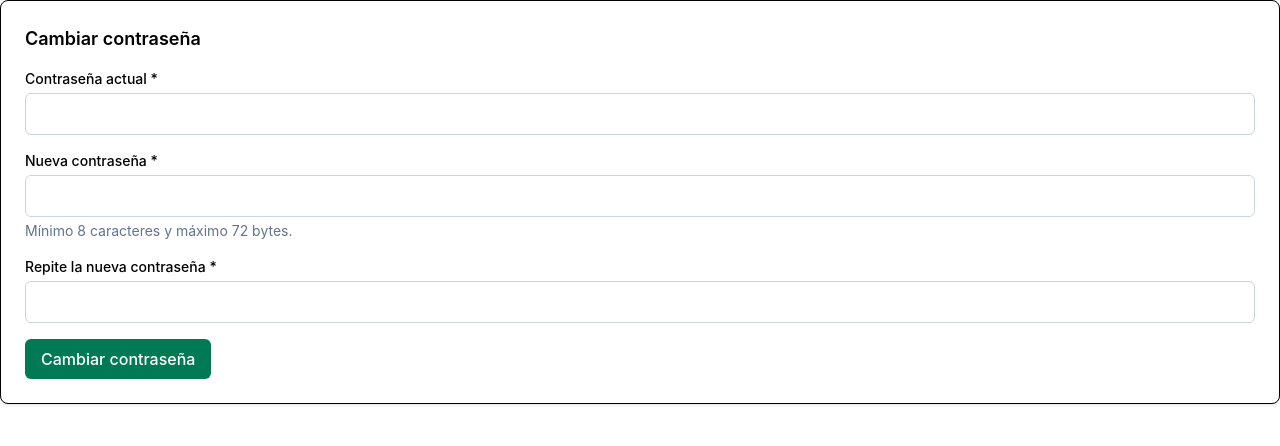
it: ChangePasswordForm › INVALID_PASSWORD se muestra bajo el campo de contraseña actual
Step 1. Type "equivocada1" into the password field labelled "Contraseña actual *" → (640, 114), box top-left (25, 93), bottom-right (1255, 135)
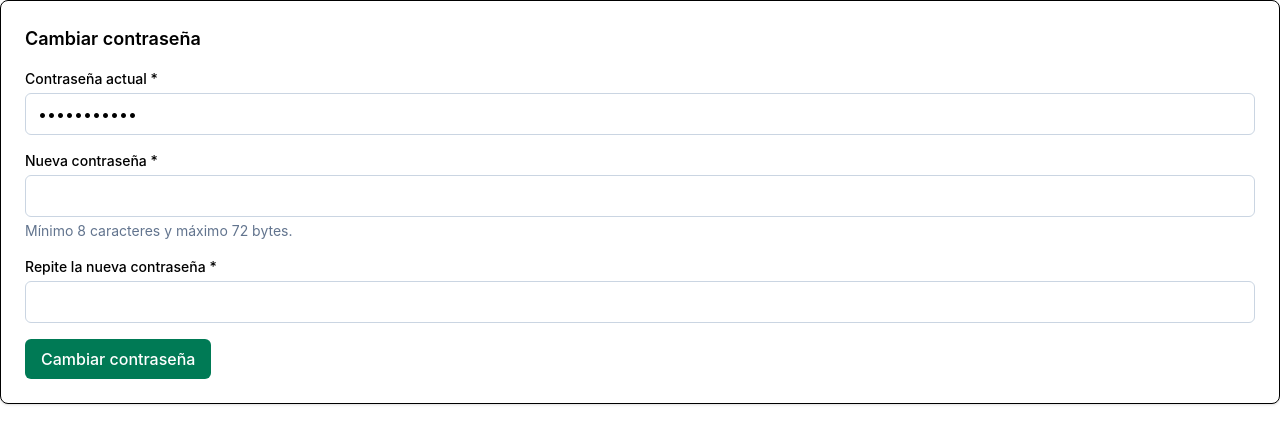
Step 2. Type "nueva12345" into the password field labelled "Nueva contraseña *" → (640, 196), box top-left (25, 175), bottom-right (1255, 217)
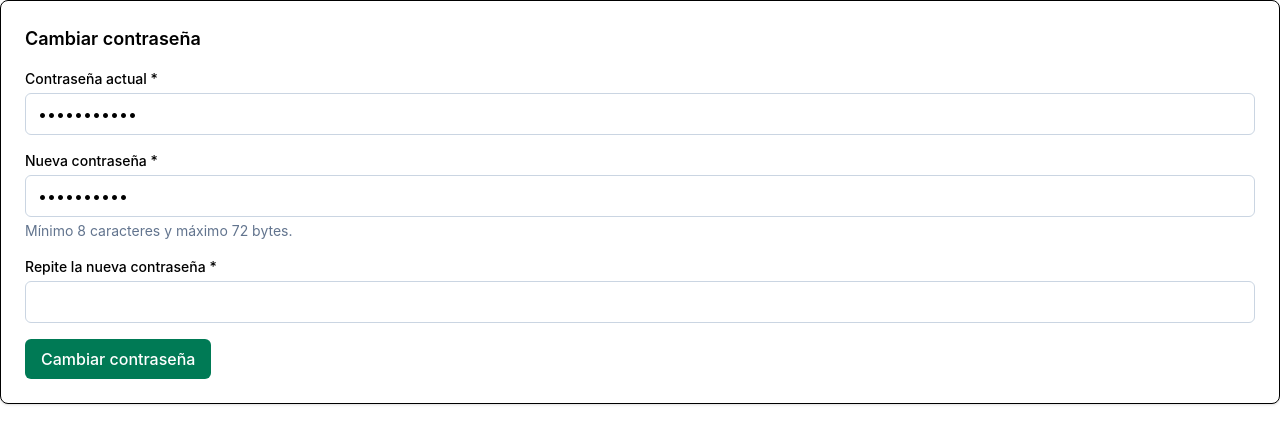
Step 3. Type "nueva12345" into the password field labelled "Repite la nueva contraseña *" → (640, 302), box top-left (25, 281), bottom-right (1255, 323)
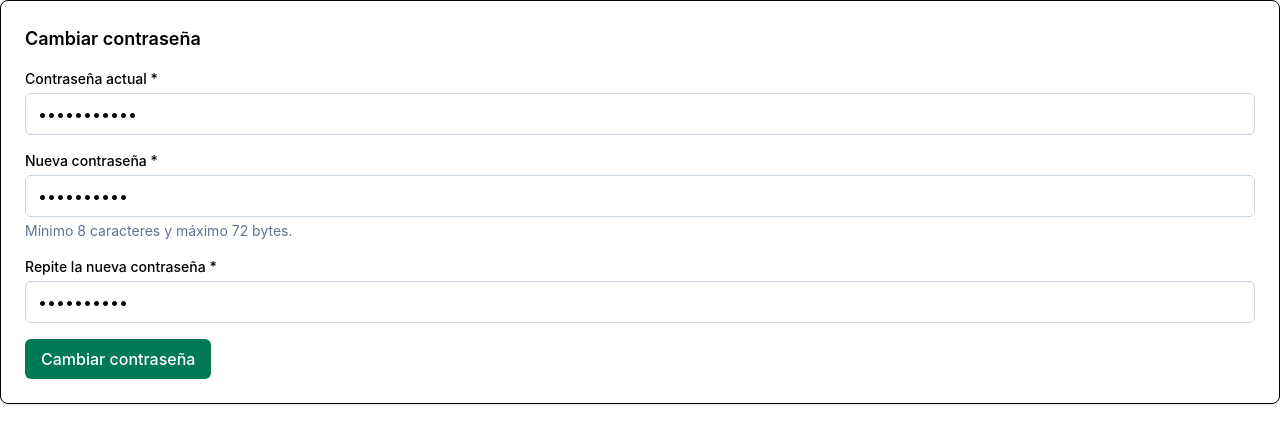
Step 4. Click the button "Cambiar contraseña" → (118, 359), box top-left (25, 339), bottom-right (211, 379)
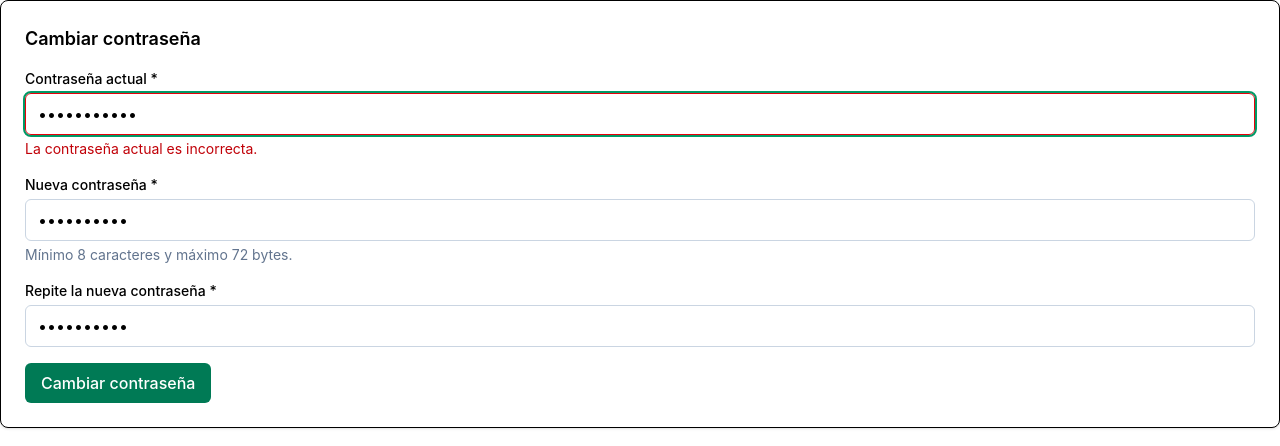
Check: the text "La contraseña actual es incorrecta." is shown, box top-left (25, 140), bottom-right (257, 157)
